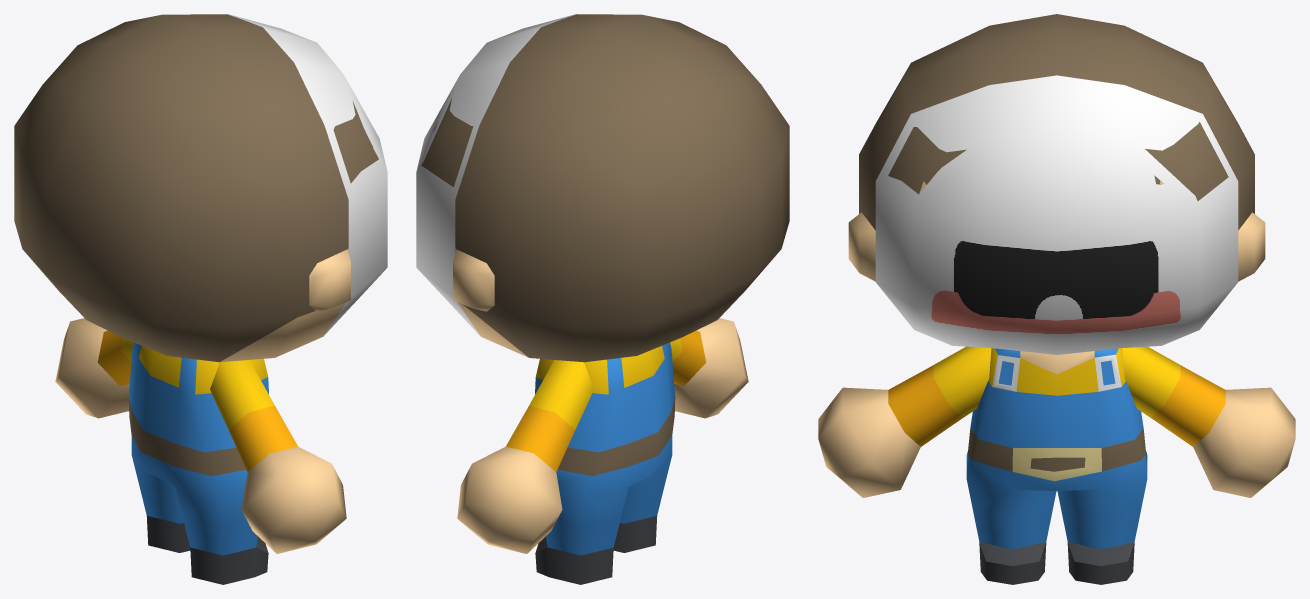
File: Charact.obj
The picture shows the model from 3 angles, left to right: view 1: azimuth 30°, elevation 25°; view 2: azimuth 150°, elevation 25°; view 3: azimuth 270°, elevation 25°; orthographic projection.
Visible parts, largest first — view 1: worker_mesh; view 2: worker_mesh; view 3: worker_mesh.
Boxes of the visible parts, x1,y1,x2,y2 form: worker_mesh: (14, 14, 387, 584); worker_mesh: (416, 14, 789, 584); worker_mesh: (818, 14, 1295, 584).
Size of the model in its own units: 1.24 by 1.99 by 1.62.
Materials: 2 (2 with a texture image).
